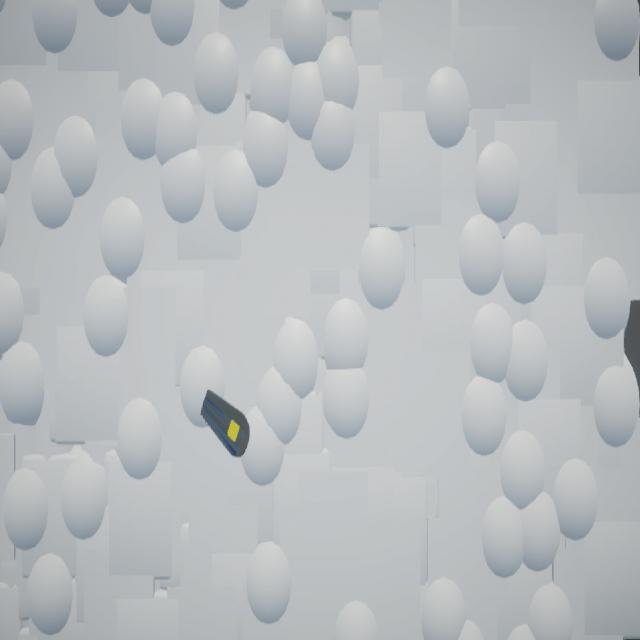handle_folk: (201, 390, 251, 459)
